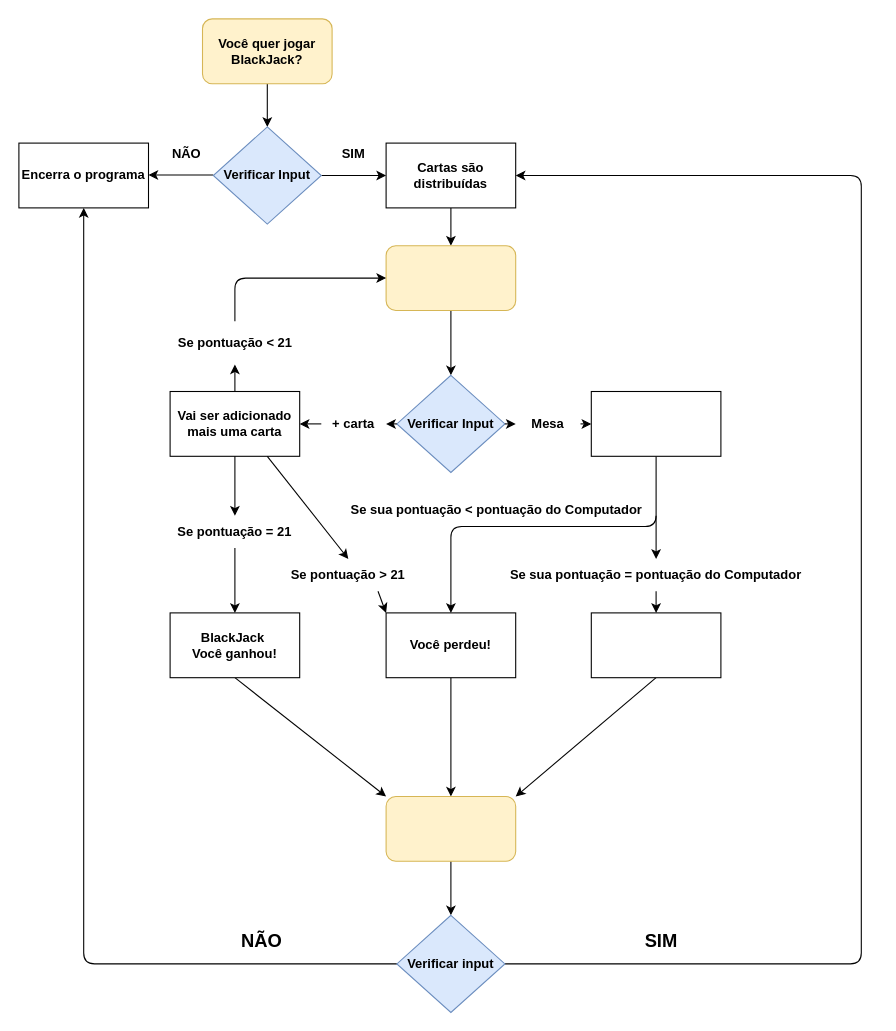
The diagram is 896 pixels wide and 1031 high, and some of its shapes have lost their labels. The centre of each missing label's shape, as x and y in pixels:
Empate!: [655,645]
Vai jogar na mesa: [655,423]
Você quer jogar novamente?: [450,828]
Você vai querer mais uma carta ou vai jogar na mesa?: [450,277]
